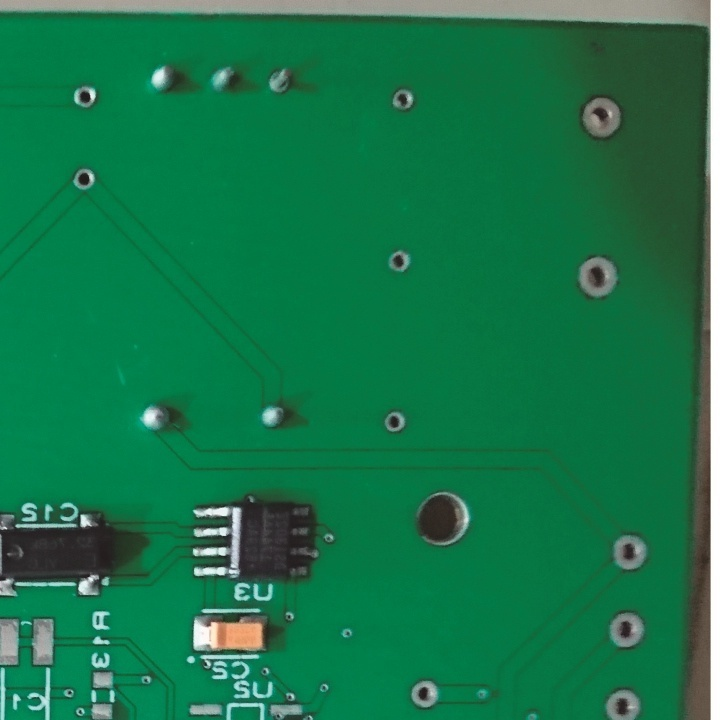F: (575, 249, 623, 306), (575, 93, 627, 141), (608, 526, 651, 576), (605, 609, 649, 653), (603, 683, 644, 720), (408, 677, 444, 711), (265, 64, 293, 100), (385, 244, 414, 277), (70, 81, 101, 111), (69, 163, 97, 196), (383, 406, 411, 438), (387, 84, 416, 114)
